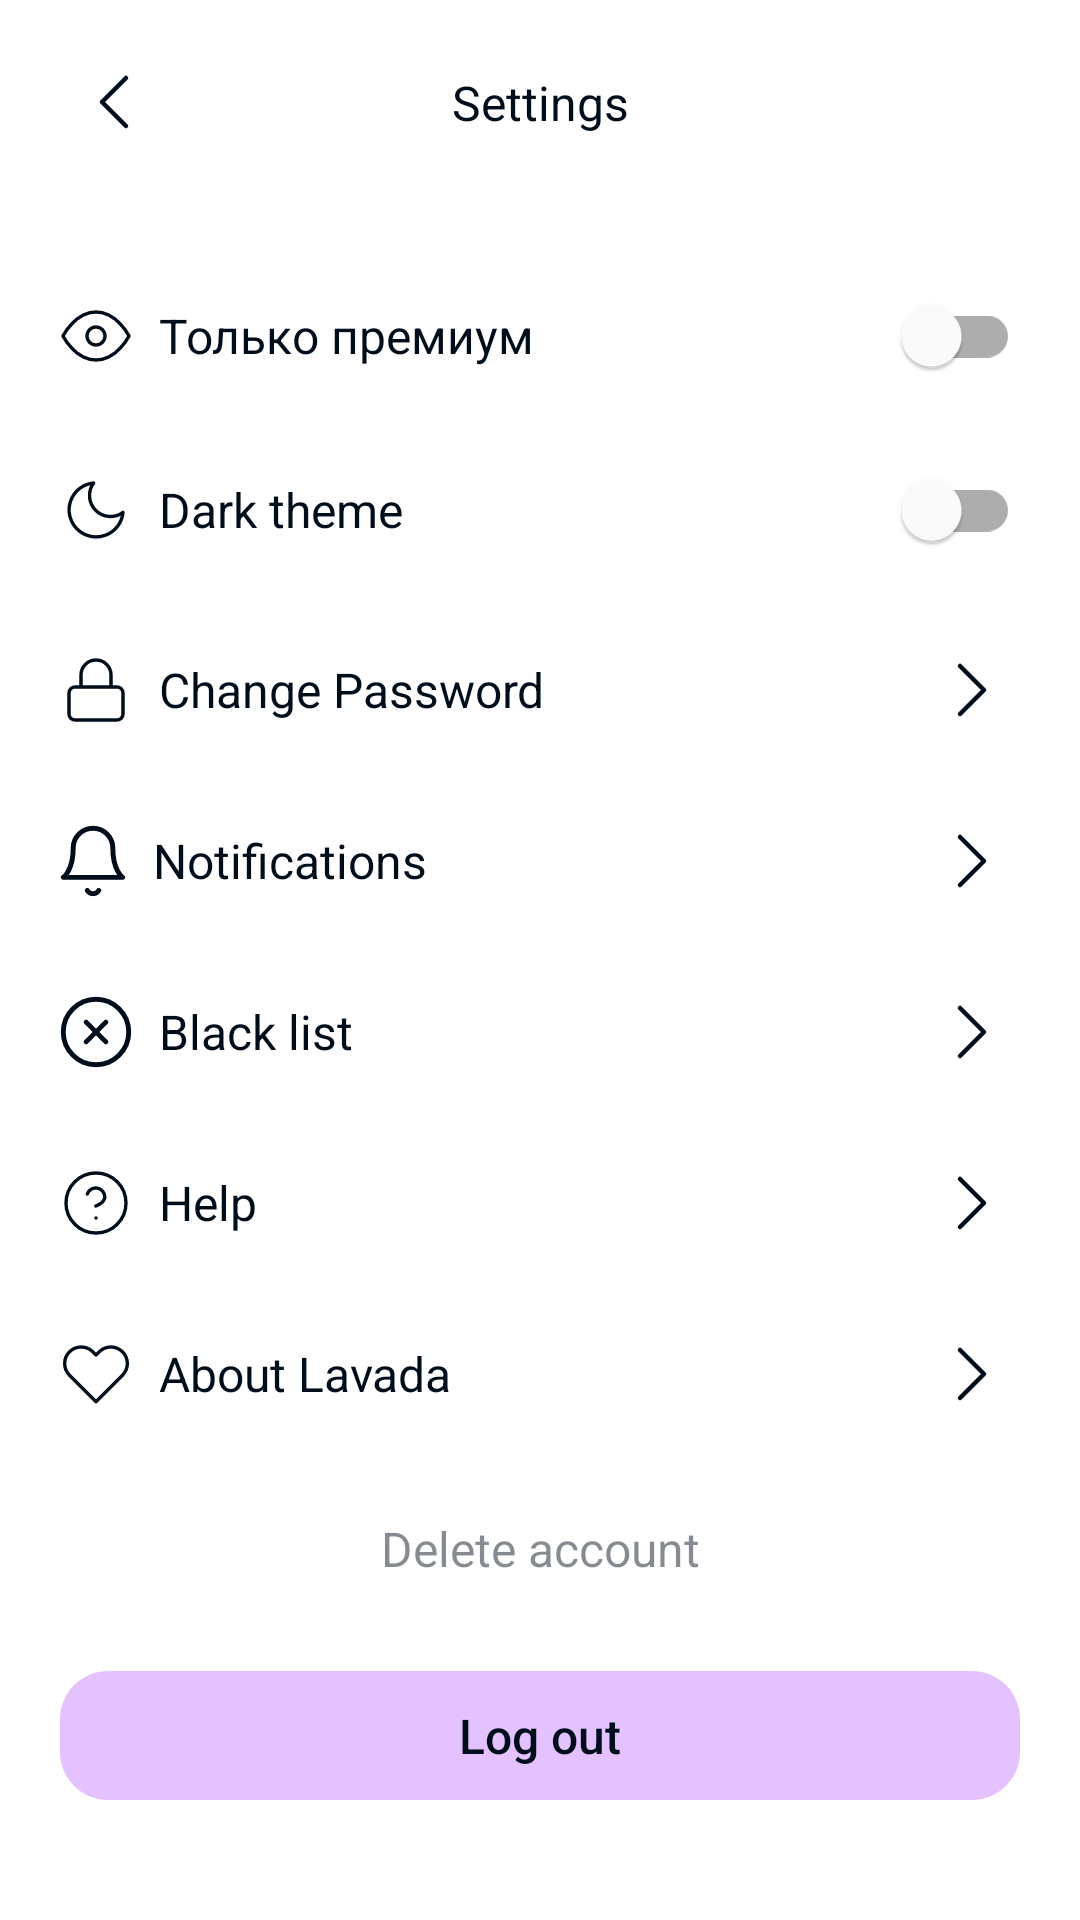

Locate icon controls on the screen. Image size 1080px×1920px, boxes as (x1, y1, x2, y2).
chevron left: (99, 75, 129, 129)
